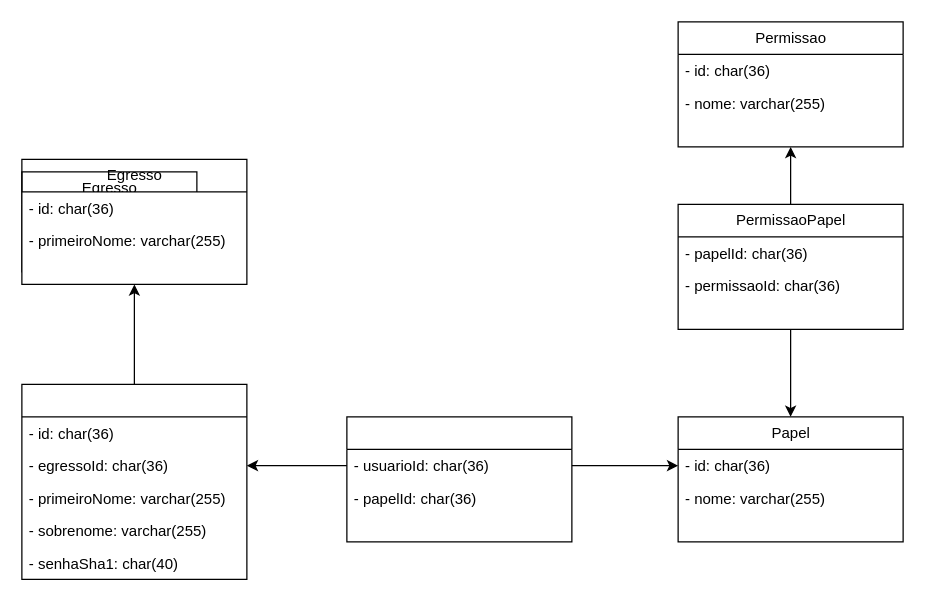
The diagram is 925 pixels wide and 605 high, and some of its shapes have lost their labels. Each missing label, with the box of its shape:
PapelUsuario: (346, 416, 572, 542)
Usuario: (21, 383, 247, 579)
